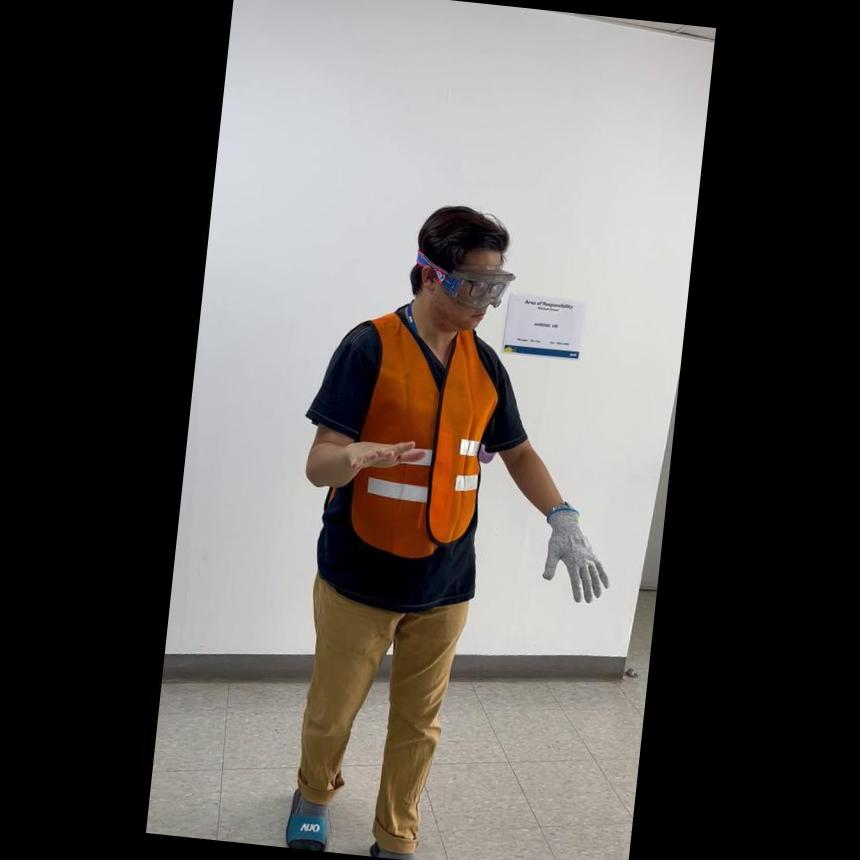Gloves: (532, 493, 616, 604)
No-gloves: (338, 424, 422, 481)
